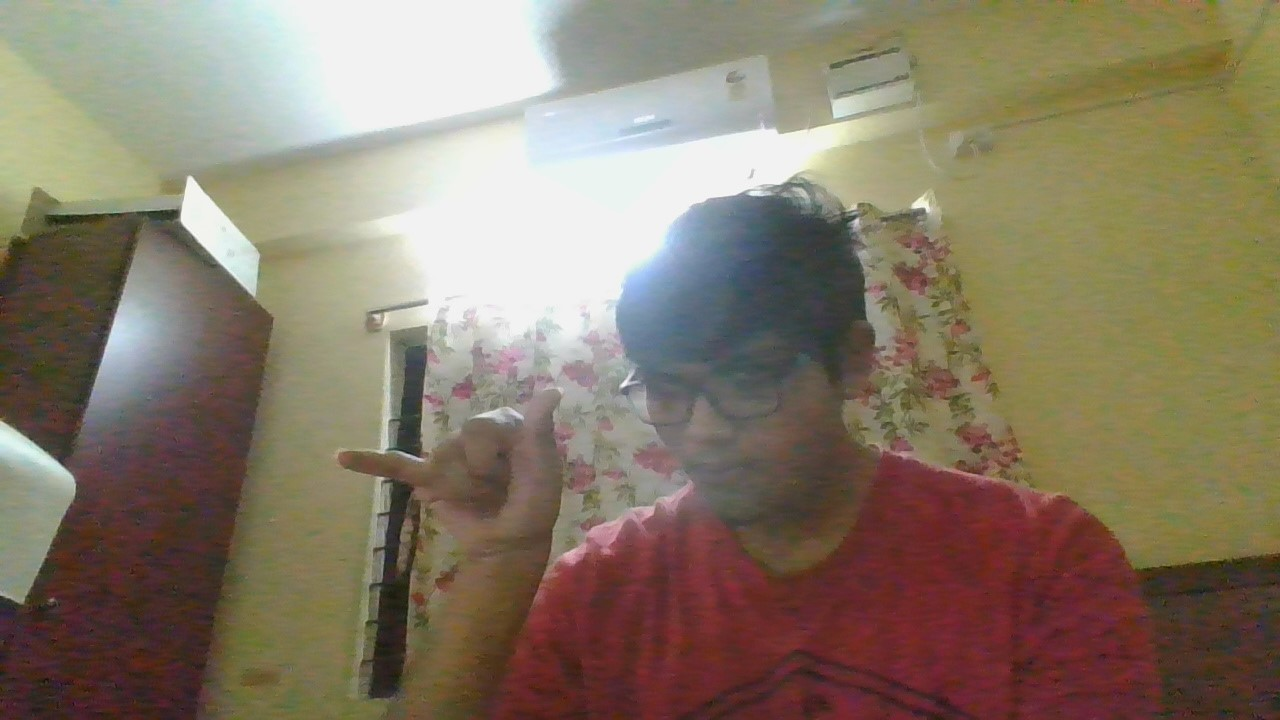y: (330, 378, 588, 562)
